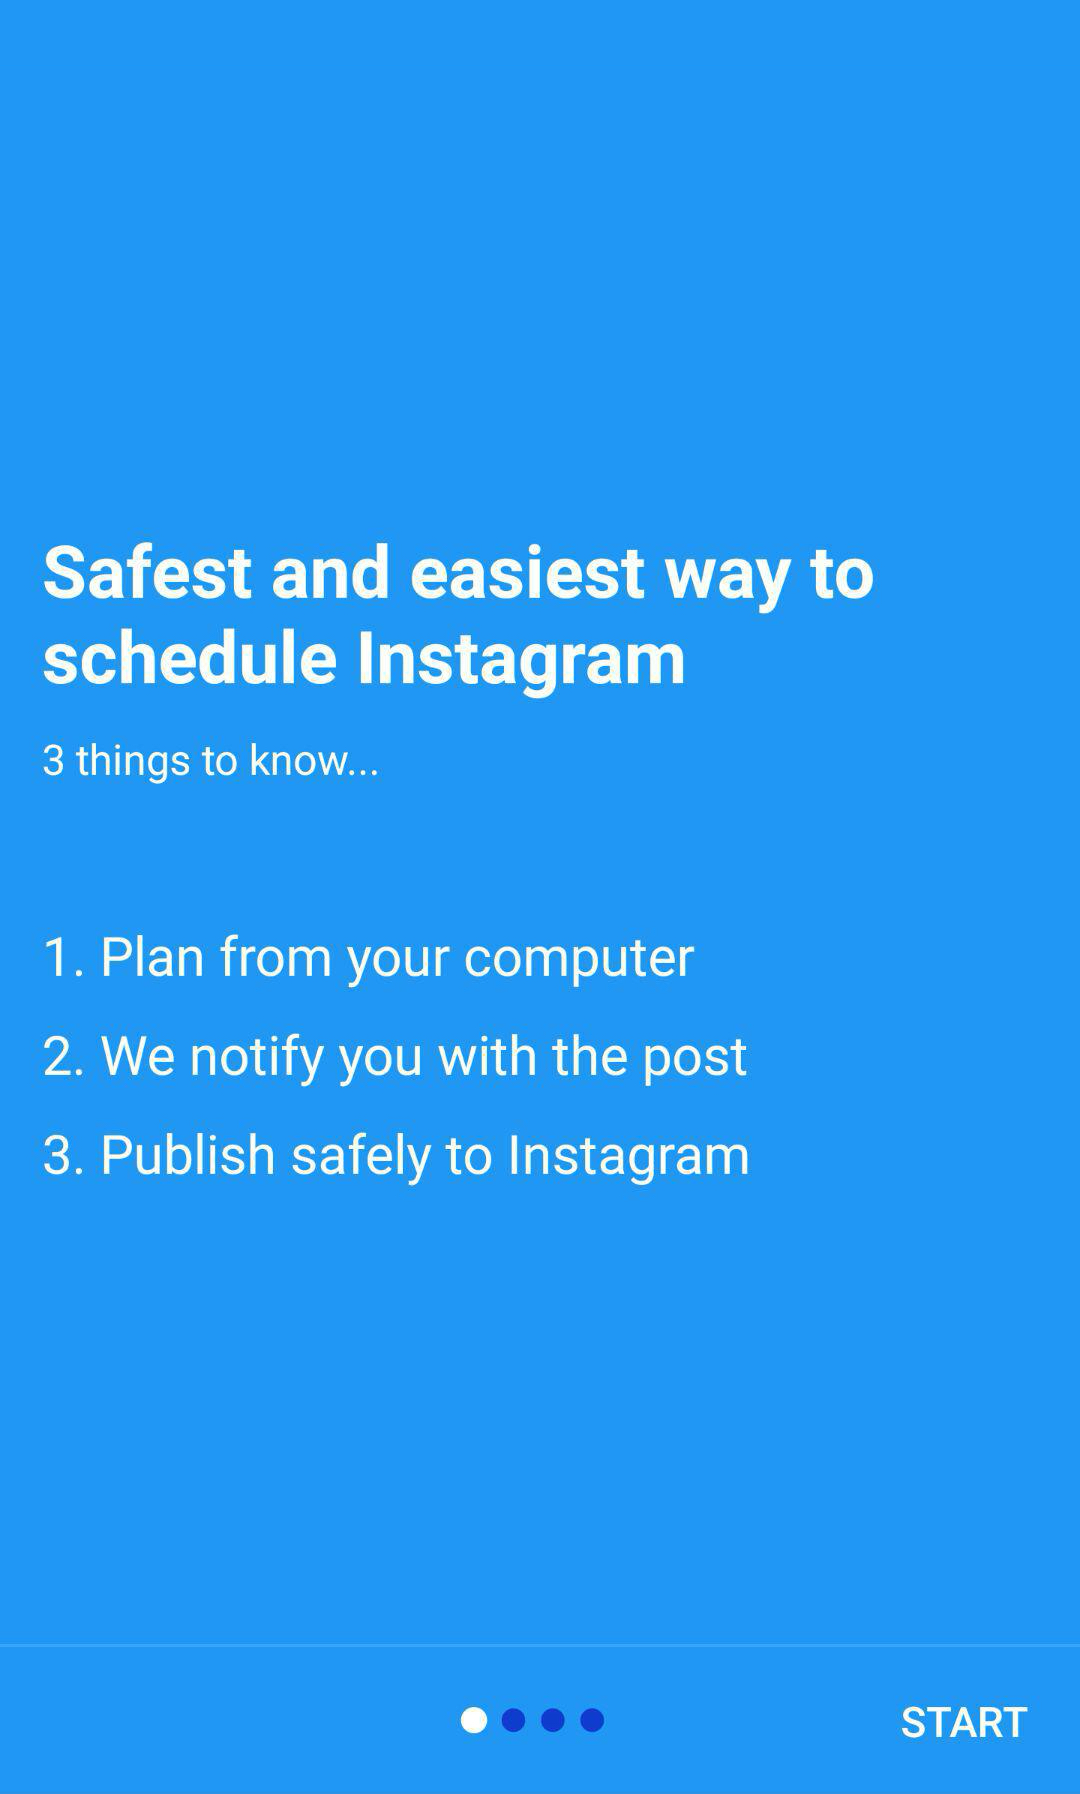PageIndicator: (459, 1704, 606, 1736)
Text: (44, 541, 876, 702), (44, 1032, 749, 1090), (44, 1132, 749, 1188), (46, 934, 697, 991), (42, 741, 379, 786), (901, 1706, 1029, 1740)
